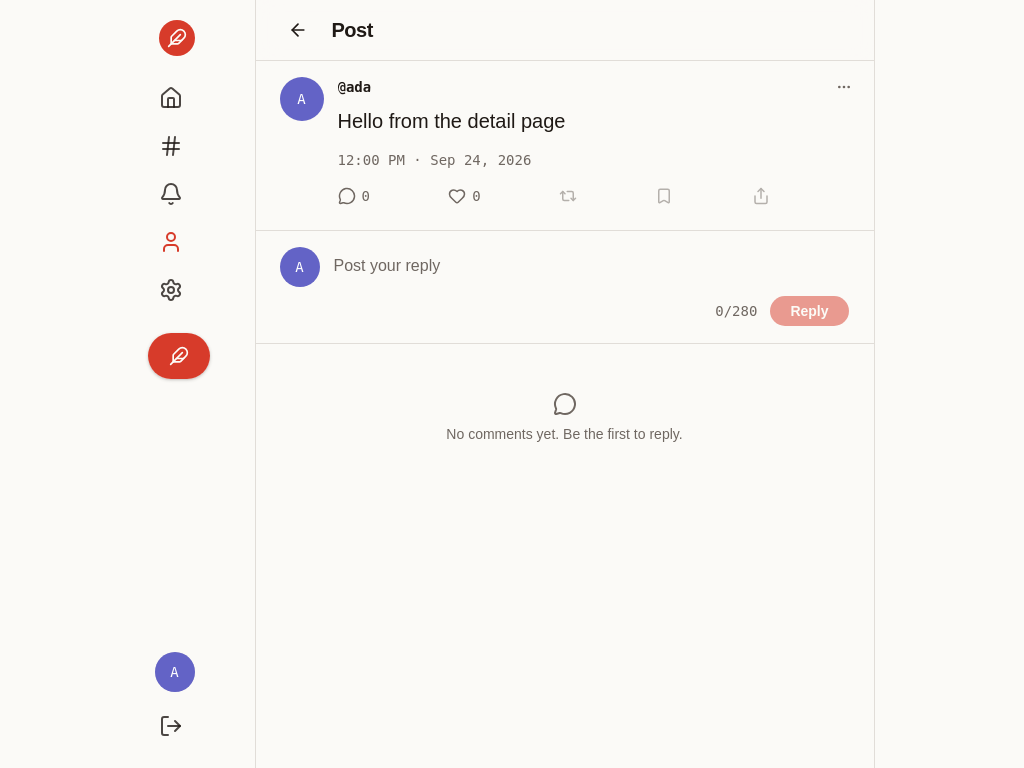
Test case: PostDetail › deletes your own post after confirmation and goes to the author's profile
The image size is (1024, 768).
Click the button named "More options": (844,87) [830, 73, 858, 101]
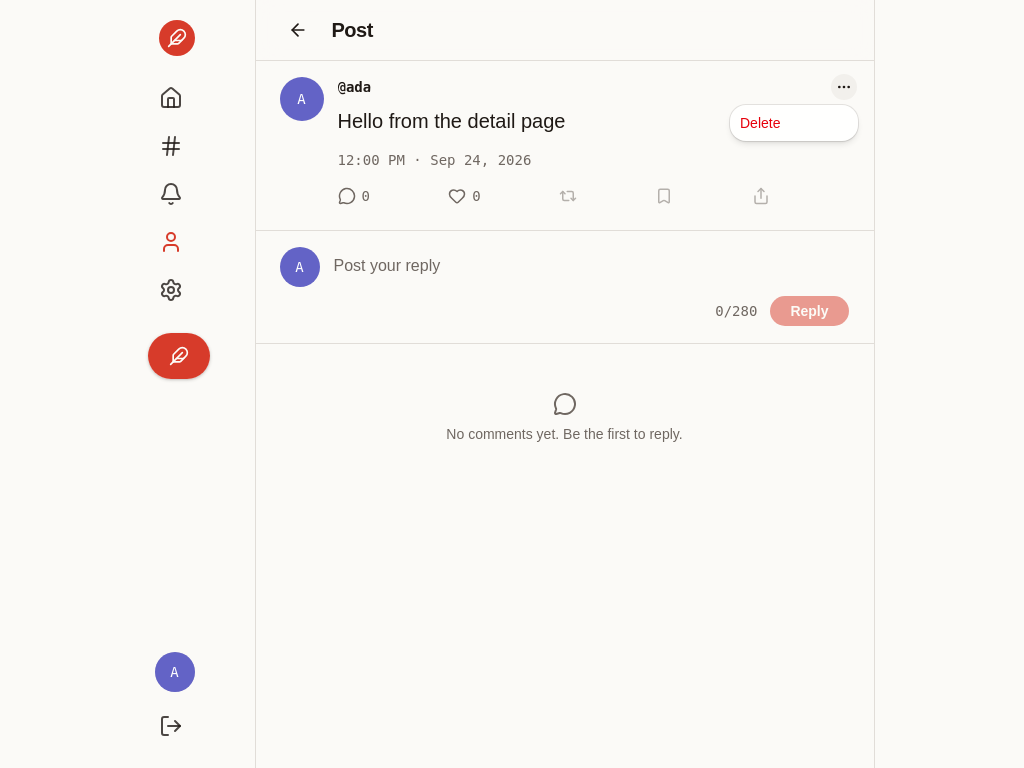
Click the menu item "Delete": (760,123) [740, 115, 780, 131]
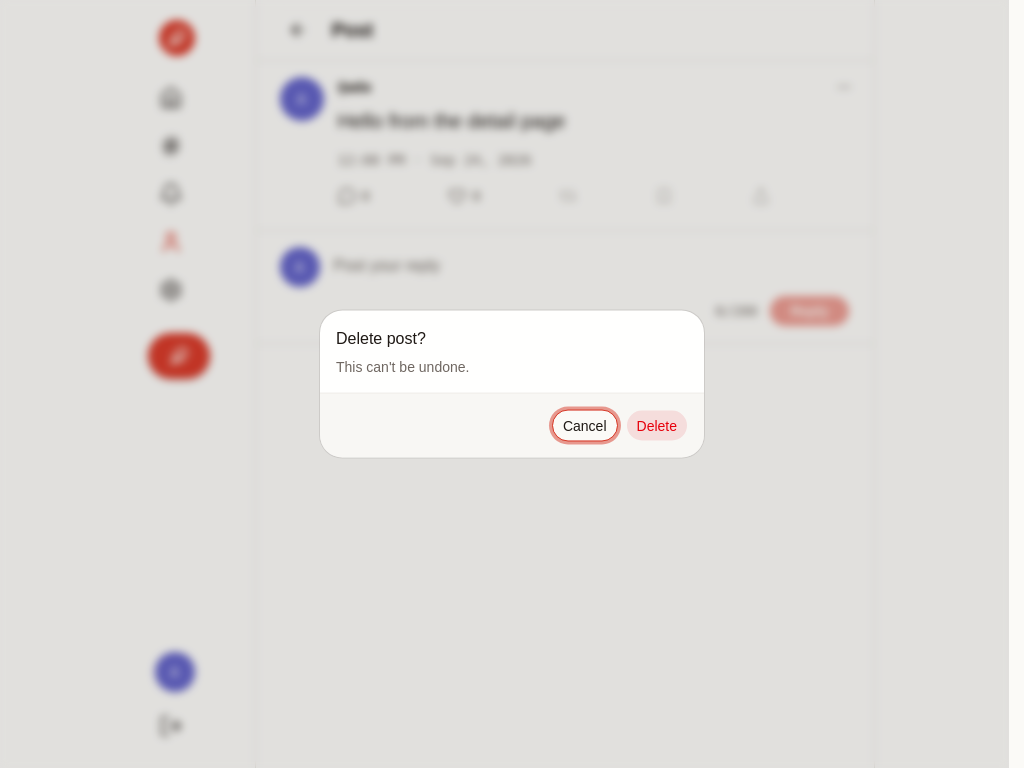
Click the button "Delete": (657,426) [626, 410, 688, 442]
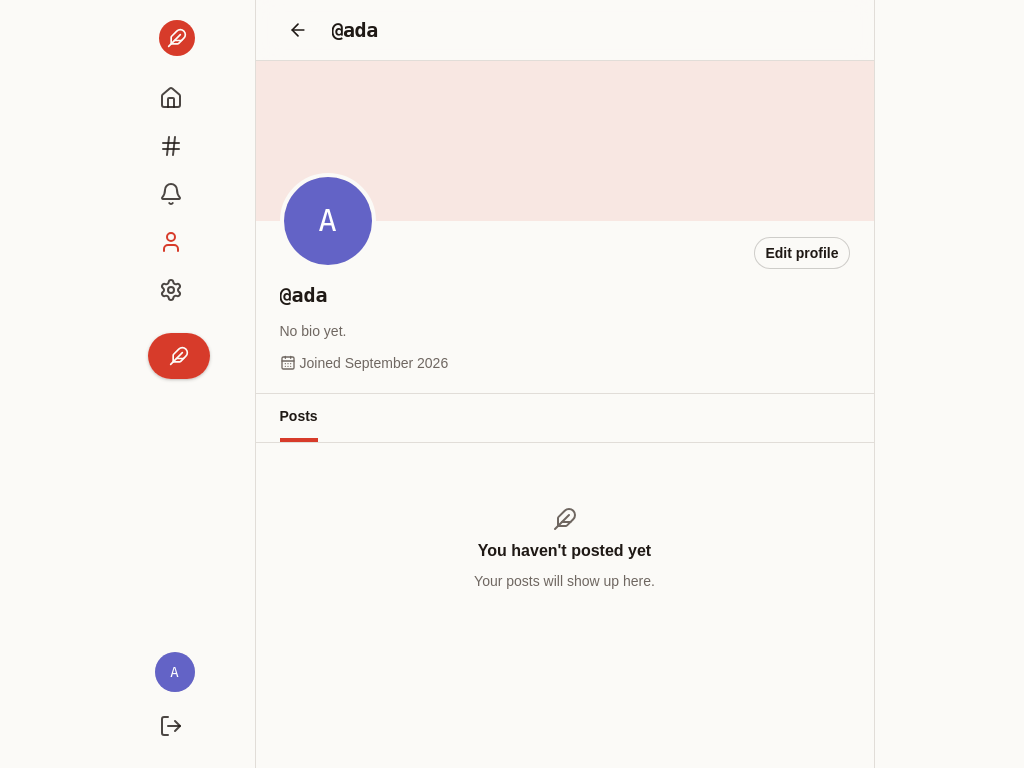
Now the heading "@ada" is shown, box [332, 18, 378, 42]
